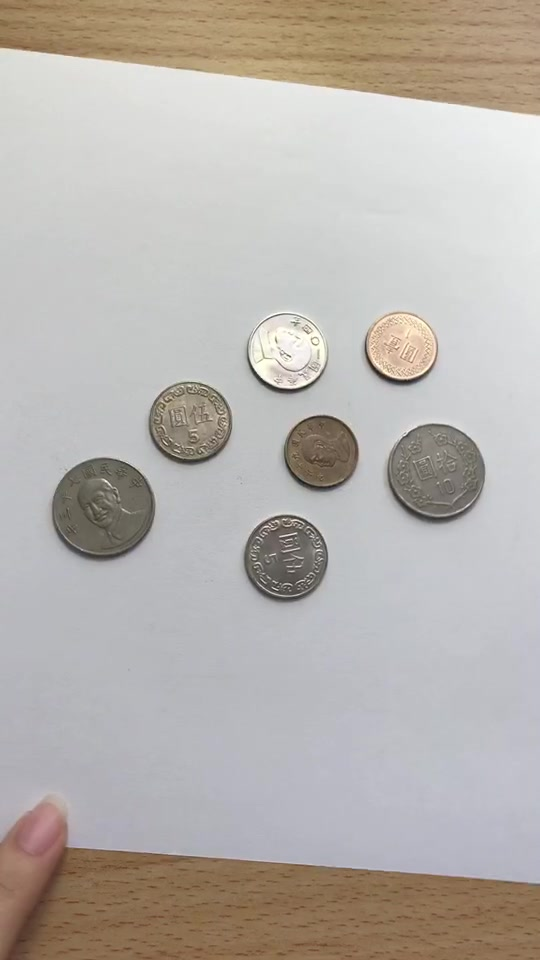1 dallar: (278, 406, 368, 497), (354, 301, 444, 392)
10 dallar: (40, 451, 164, 562), (375, 418, 499, 529)
5 dallar: (143, 378, 239, 471), (240, 305, 336, 398), (237, 510, 333, 603)
